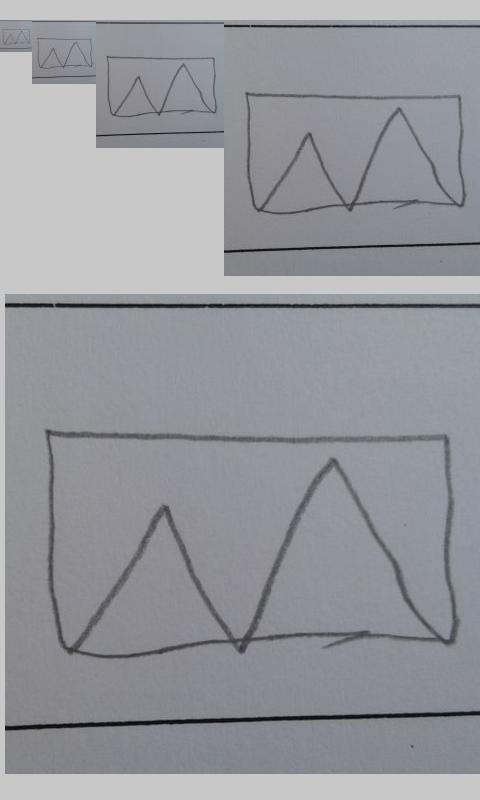image_view: (45, 425, 459, 661), (243, 92, 466, 215), (105, 55, 219, 117), (37, 37, 93, 69), (1, 28, 31, 45)
